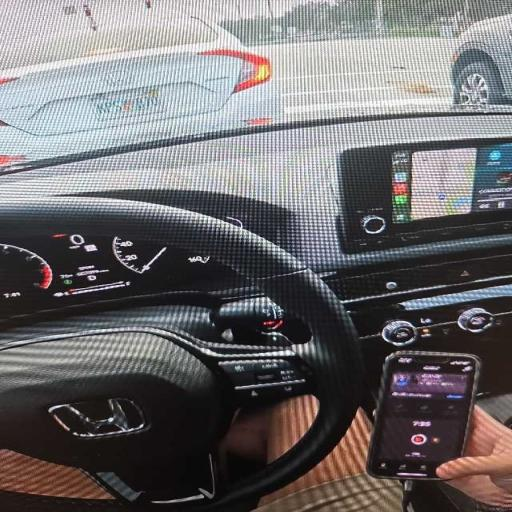car: (0, 0, 511, 511), (0, 2, 280, 167), (451, 15, 512, 107)
lane: (255, 38, 456, 120)
person: (257, 412, 402, 511)
